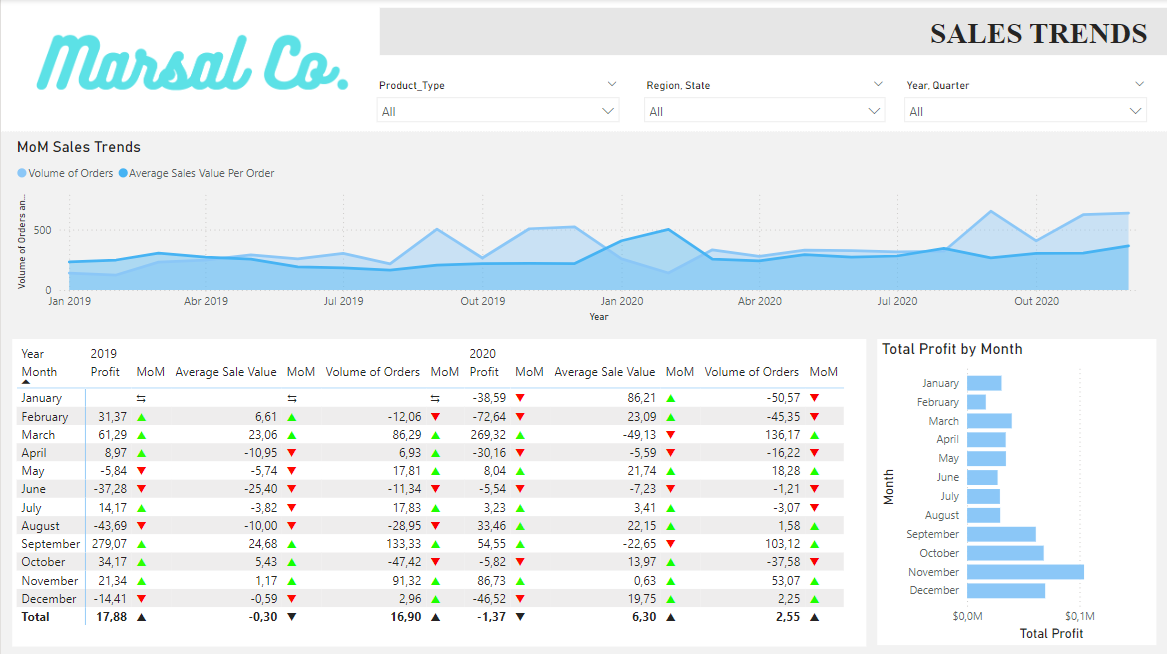

Layout of this report page (visuals, bound fields, positions):
{"tool":"powerbi","page":{"name":"Sales Trends","canvas":[1280,720],"ordinal":1},"visuals":[{"type":"pivotTable","fields":{"Values":["_Measures.TotalProfit_MoM%","_Measures.ArrowMeasure","_Measures.AverageSaleValue_MoM%","_Measures.ArrowMeasure_AVS","_Measures.VolumeofOrders_MoM%","_Measures.ArrowMeasure_VoO"],"Columns":["Dim_Date.Date.Variation.Date Hierarchy.Year"],"Rows":["Dim_Date.Date.Variation.Date Hierarchy.Month"]},"box":[12.3,373.2,937.2,337.6],"z":0},{"type":"areaChart","title":"MoM Sales Trends","fields":{"Category":["Dim_Date.Date.Variation.Date Hierarchy.Year","Dim_Date.Date.Variation.Date Hierarchy.Month"],"Y":["_Measures.Volume of Orders","_Measures.Average Sales Value Per Order"]},"box":[12.3,152.3,1255.6,207.2],"z":1000},{"type":"slicer","fields":{"Values":["Dim_Date.Date.Variation.Date Hierarchy.Year","Dim_Date.Date.Variation.Date Hierarchy.Quarter"]},"box":[981.1,82.3,286.8,54.9],"z":2000},{"type":"slicer","fields":{"Values":["Dim_Product.Product_Type"]},"box":[402.1,82.3,286.8,54.9],"z":3000},{"type":"slicer","fields":{"Values":["Dim_Location.Region","Dim_Location.State"]},"box":[695.7,82.3,285.4,54.9],"z":4000},{"type":"clusteredBarChart","fields":{"Category":["Dim_Date.Date.Variation.Date Hierarchy.Month"],"Y":["_Measures.Total Profit"]},"box":[961.9,373.2,306,336.2],"z":5000},{"type":"image","box":[11,9.6,391.1,124.9],"z":6000},{"type":"shape","box":[415.8,9.6,864.5,52.1],"z":7000},{"type":"textbox","box":[981.1,9.6,299.1,52.1],"z":8000}]}

Visuals, with their boxes in screenshot pixels (x1, y1, x2, y2), scaled from the page's 1280x720 canvas onto the 1167x654 screenshot:
pivotTable - _Measures.TotalProfit_MoM% x _Measures.ArrowMeasure: (left=11, top=339, right=866, bottom=646)
"MoM Sales Trends" areaChart: (left=11, top=138, right=1156, bottom=327)
slicer - Dim_Date.Date.Variation.Date Hierarchy.Year x Dim_Date.Date.Variation.Date Hierarchy.Quarter: (left=894, top=75, right=1156, bottom=125)
slicer - Dim_Product.Product_Type: (left=367, top=75, right=628, bottom=125)
slicer - Dim_Location.Region x Dim_Location.State: (left=634, top=75, right=894, bottom=125)
clusteredBarChart - Dim_Date.Date.Variation.Date Hierarchy.Month x _Measures.Total Profit: (left=877, top=339, right=1156, bottom=644)
image: (left=10, top=9, right=367, bottom=122)
shape: (left=379, top=9, right=1166, bottom=56)
textbox: (left=894, top=9, right=1166, bottom=56)
